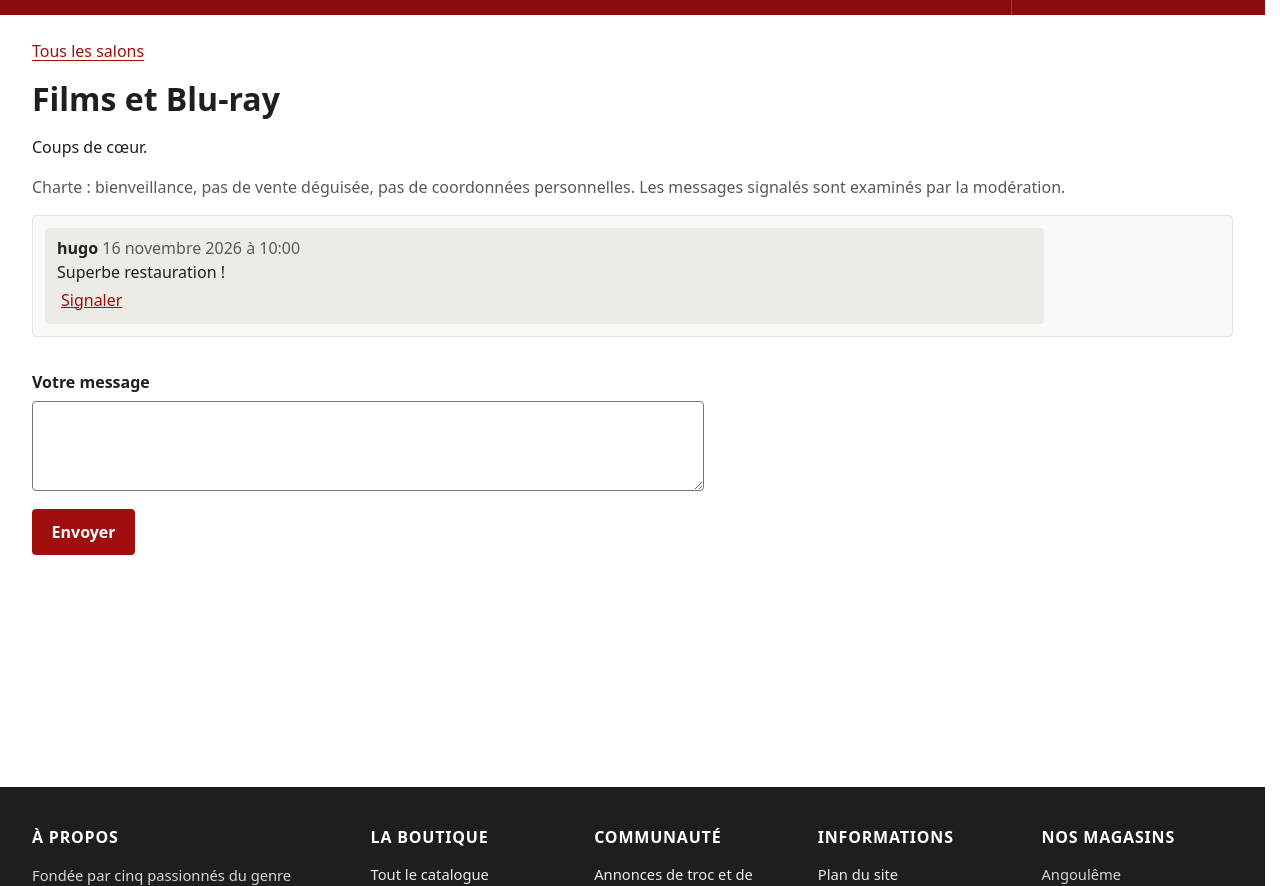
Test: Salons de discussion › affichent les messages, publient un nouveau message et permettent de signaler celui des autres
The width and height of the screenshot is (1280, 886).
(page scrolled)
Check: the heading "Films et Blu-ray" is shown, box [32,77,280,120]
Check: the text "Superbe restauration !" is shown, box [57,261,225,283]
In the text box labelled "Votre message": (368, 446) [32,401,704,491], type "Je confirme"
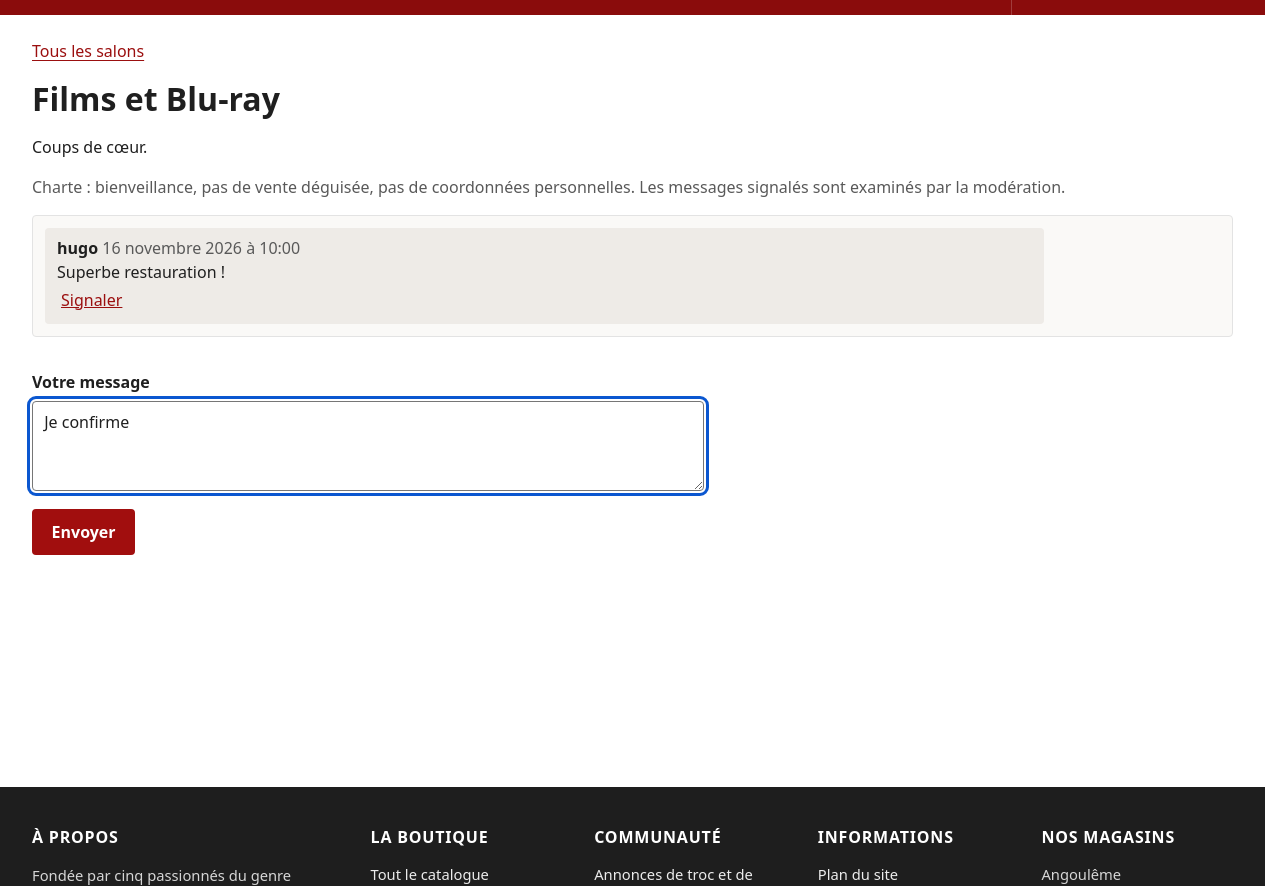
Click the button "Envoyer": (84, 532) [32,509,135,555]
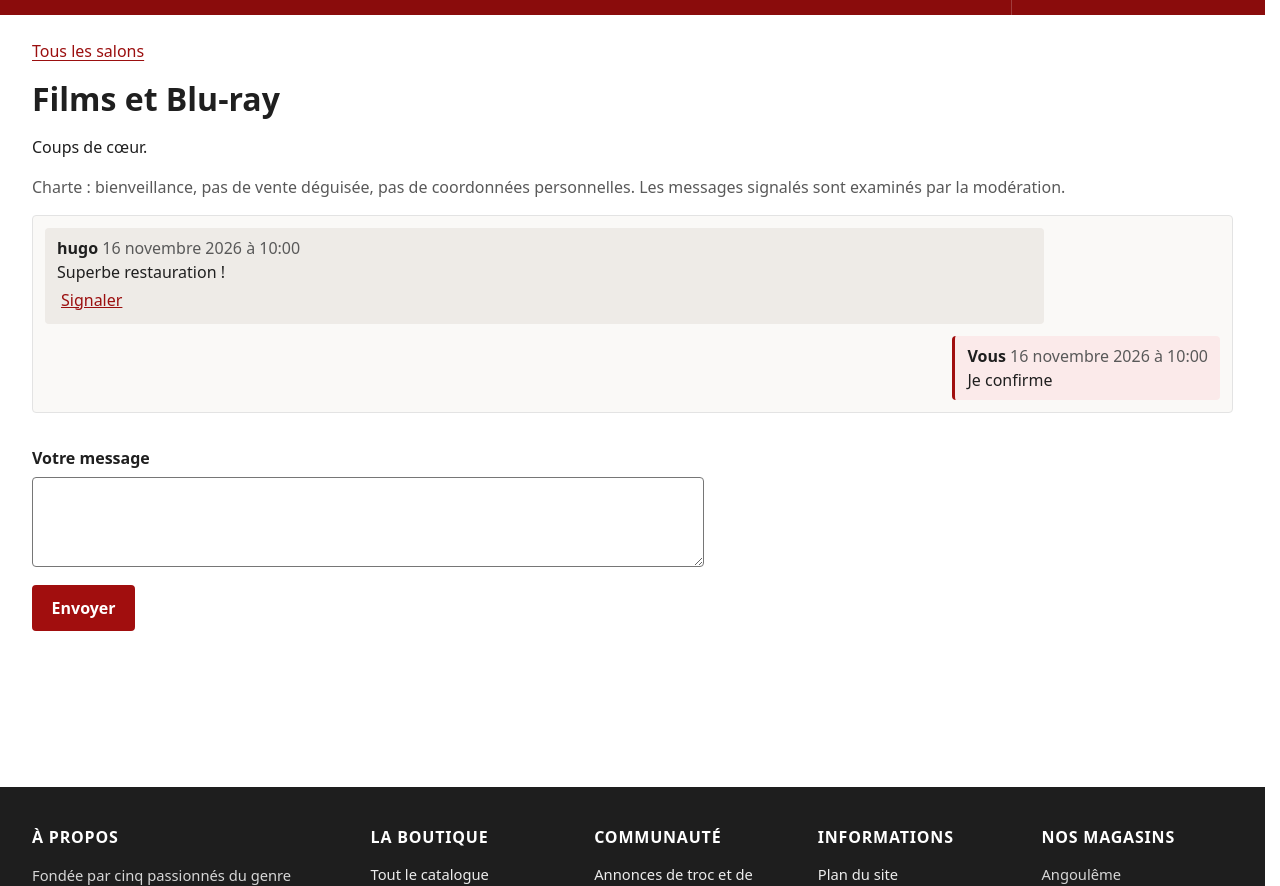
Check: the text "Je confirme" is shown, box [967,369,1052,391]
Click the button named "Signaler le message de hugo": (92, 300) [57,284,126,316]
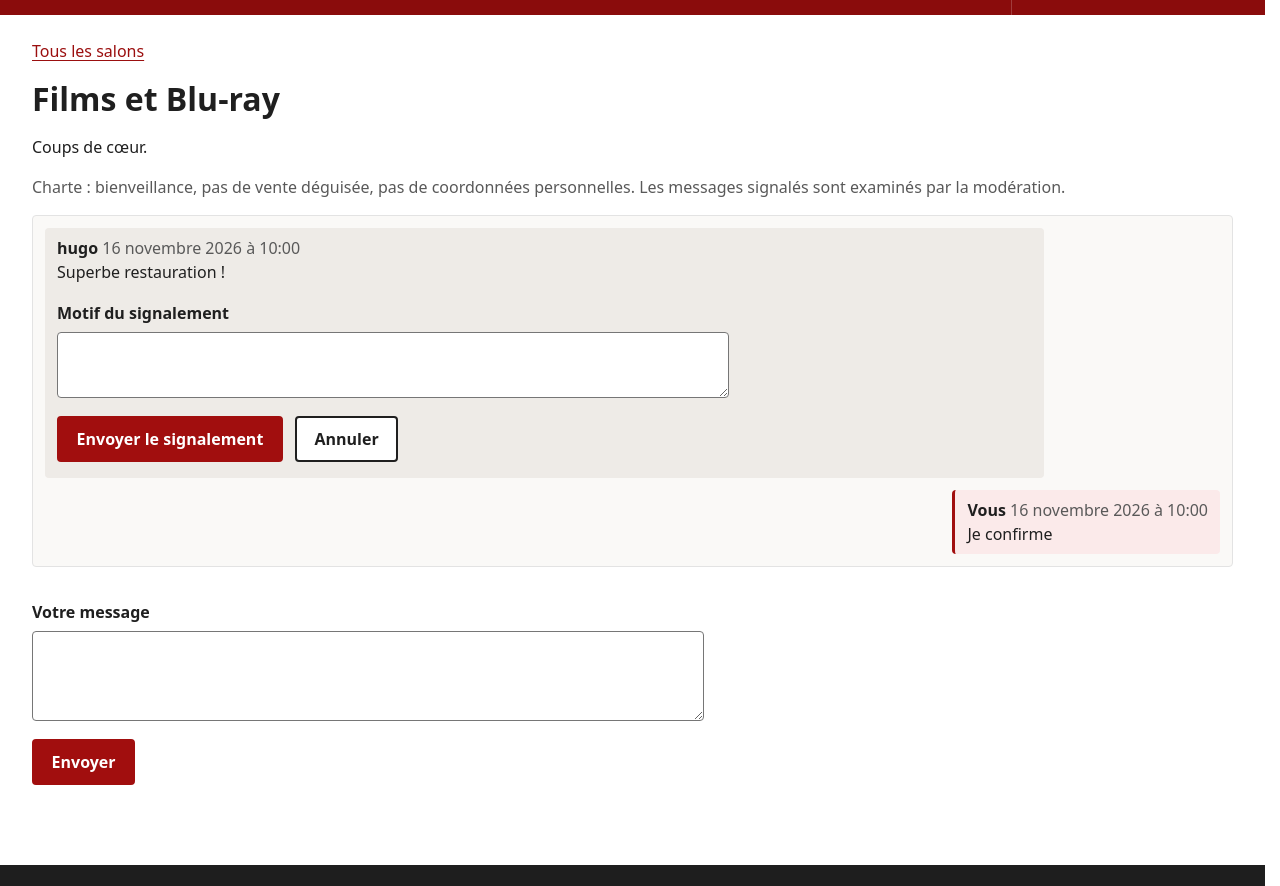
In the text box labelled "Motif du signalement": (393, 365) [57,332,729,398], type "Hors sujet"
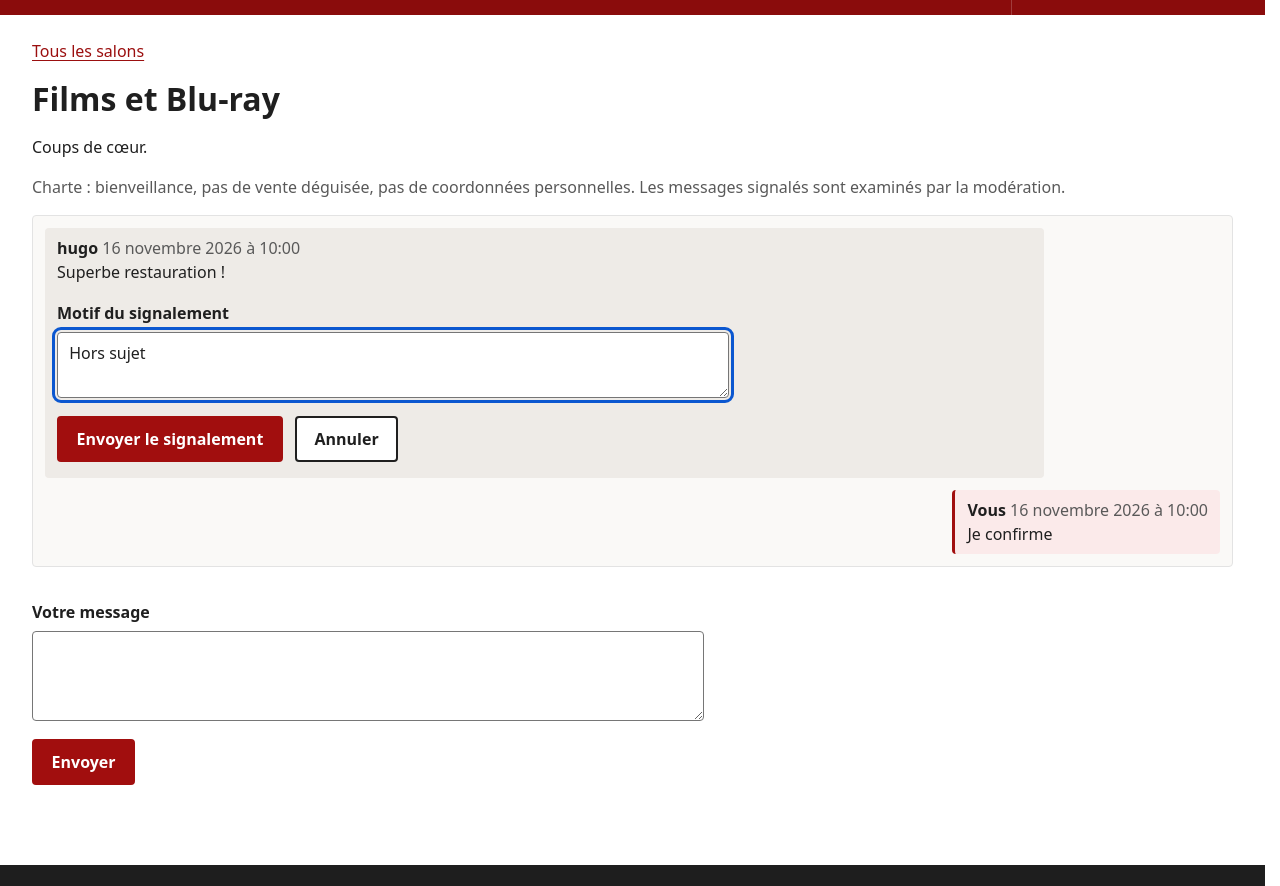
Click the button "Envoyer le signalement": (170, 439) [57,416,283,462]
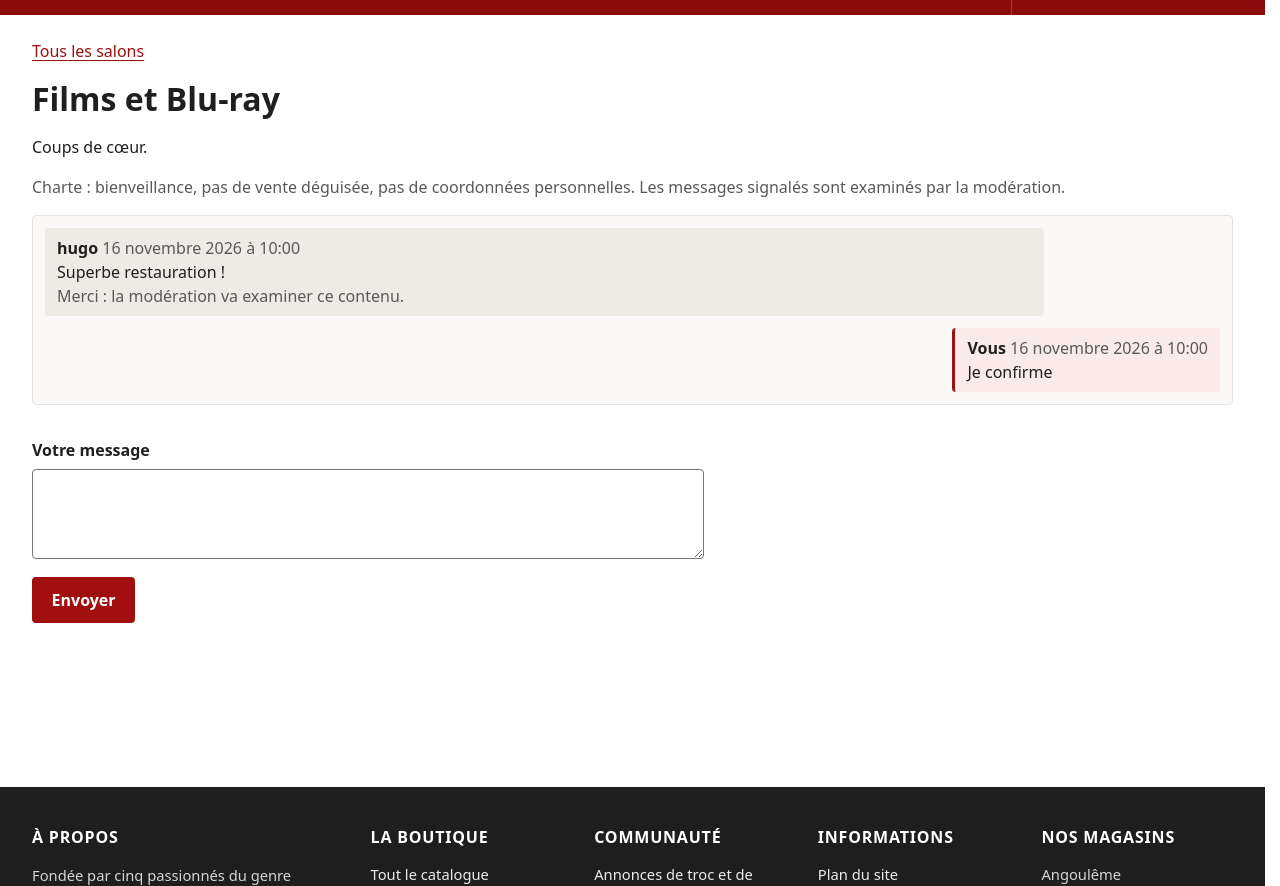
Check: the text "Merci : la modération va examiner ce contenu." is shown, box [57,285,404,307]
